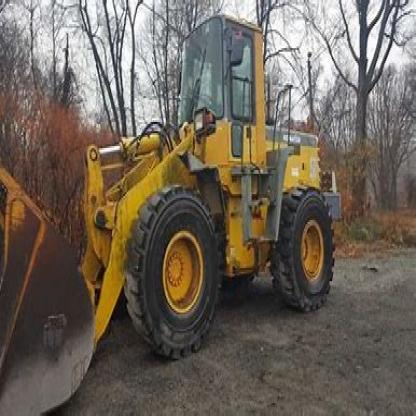bull_dozer/loader/grader: (2, 2, 340, 412)
